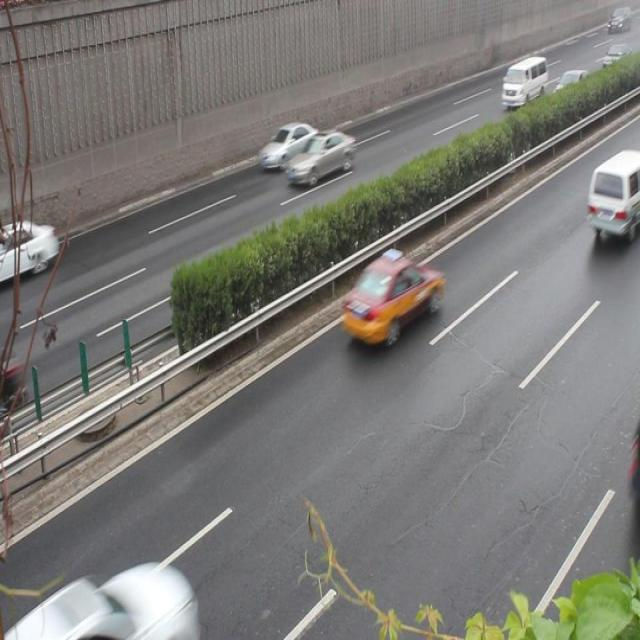car: (342, 252, 442, 345), (285, 130, 355, 185), (1, 219, 58, 280), (259, 122, 320, 172), (551, 70, 593, 114)
truck: (586, 148, 640, 241), (499, 55, 546, 107)
